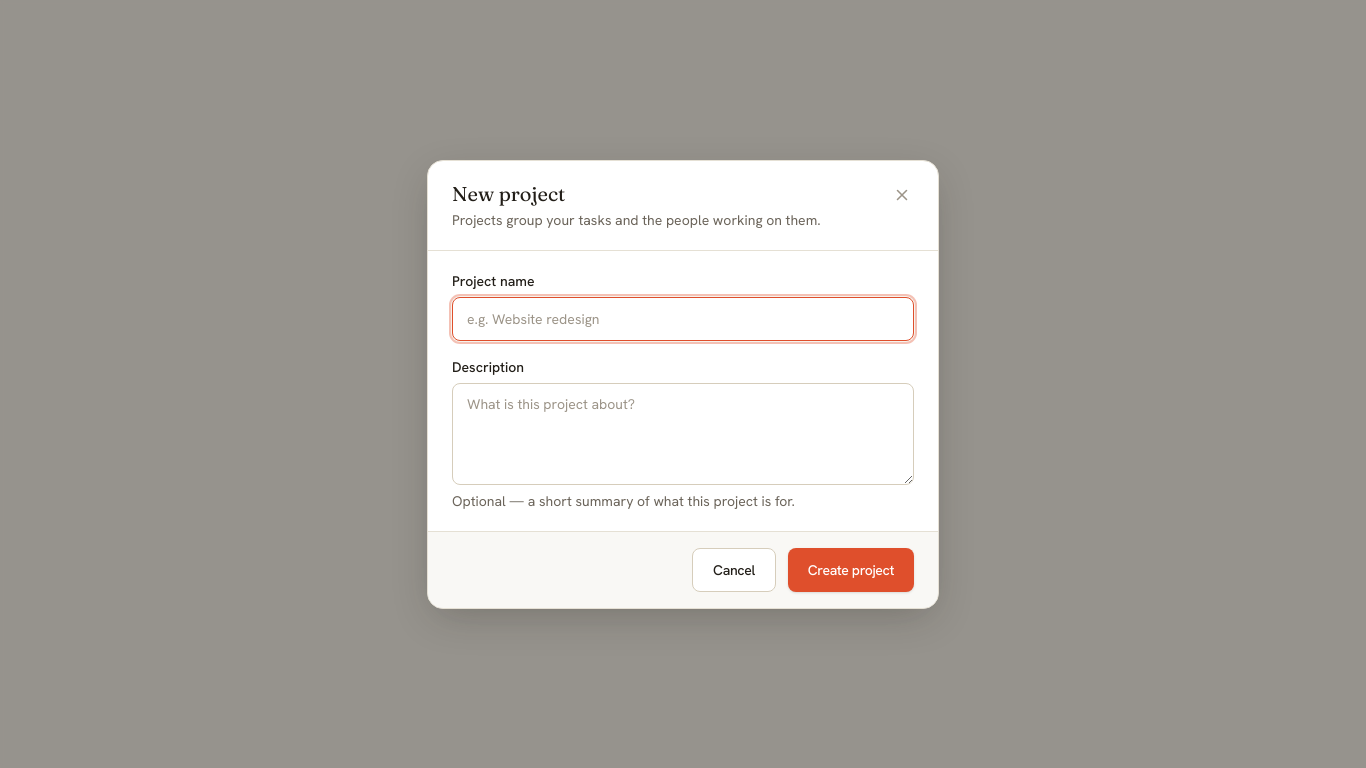
ProjectFormModal › requires a project name before submitting
Click the button "Create project".
click(851, 570)  # box [788,548,914,592]
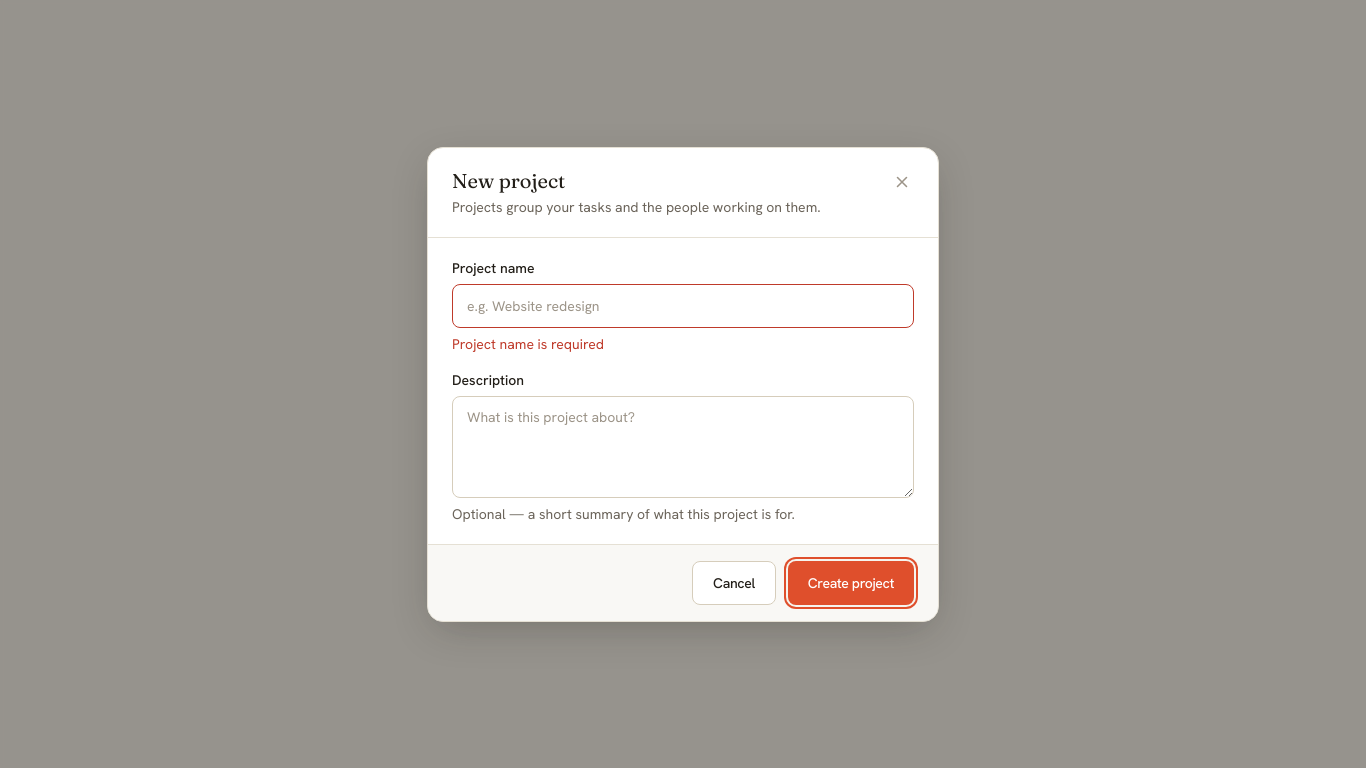
Check: the text "Project name is required" is shown, box [452,334,604,352]
